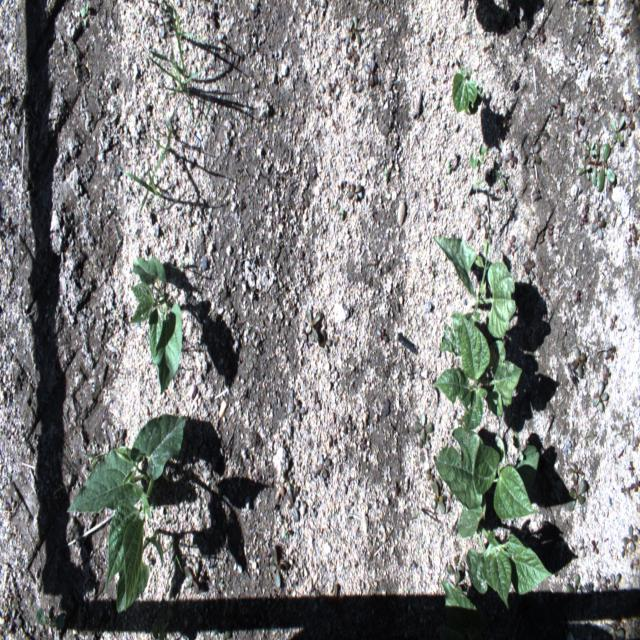crop: (67, 412, 188, 613), (456, 489, 552, 608), (430, 424, 540, 520), (433, 236, 517, 360), (433, 315, 522, 427), (129, 254, 183, 394), (440, 579, 491, 639), (453, 63, 482, 115)
weed: (129, 117, 173, 212), (150, 0, 190, 95), (591, 141, 615, 193), (268, 543, 286, 589), (413, 411, 434, 446), (286, 476, 300, 524), (564, 572, 582, 608), (568, 478, 586, 512), (304, 307, 320, 344), (592, 379, 608, 412), (310, 450, 330, 476), (362, 57, 378, 88), (446, 558, 466, 582), (168, 552, 184, 582), (591, 208, 606, 240), (571, 345, 585, 379), (290, 399, 308, 425), (590, 143, 600, 189), (622, 522, 638, 550), (432, 477, 444, 514), (570, 103, 585, 132), (610, 114, 624, 144), (528, 140, 542, 170), (317, 328, 334, 352), (549, 93, 566, 116), (472, 202, 487, 228), (602, 621, 624, 638), (448, 570, 463, 594), (567, 461, 583, 483), (576, 156, 591, 179), (350, 13, 361, 44), (342, 16, 353, 46), (35, 604, 49, 627), (344, 46, 360, 65), (583, 139, 596, 162), (622, 113, 634, 136), (504, 149, 518, 168), (340, 409, 352, 431), (608, 571, 620, 593), (347, 182, 362, 199), (312, 389, 323, 412), (524, 255, 534, 280), (581, 11, 592, 32), (495, 168, 505, 190), (484, 222, 494, 244), (578, 535, 588, 556), (626, 220, 636, 241), (596, 571, 606, 591), (605, 341, 616, 359), (602, 363, 610, 386), (579, 0, 594, 12), (631, 472, 639, 494), (336, 204, 345, 222), (506, 232, 514, 252), (619, 483, 629, 495), (82, 2, 89, 19), (621, 26, 631, 36), (446, 159, 451, 176), (610, 316, 616, 330), (383, 166, 389, 178), (593, 538, 598, 552)
